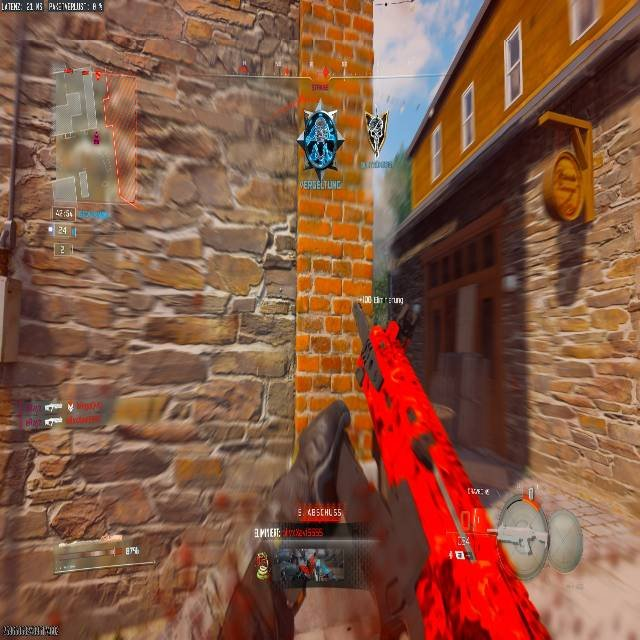player: (303, 105, 342, 172)
